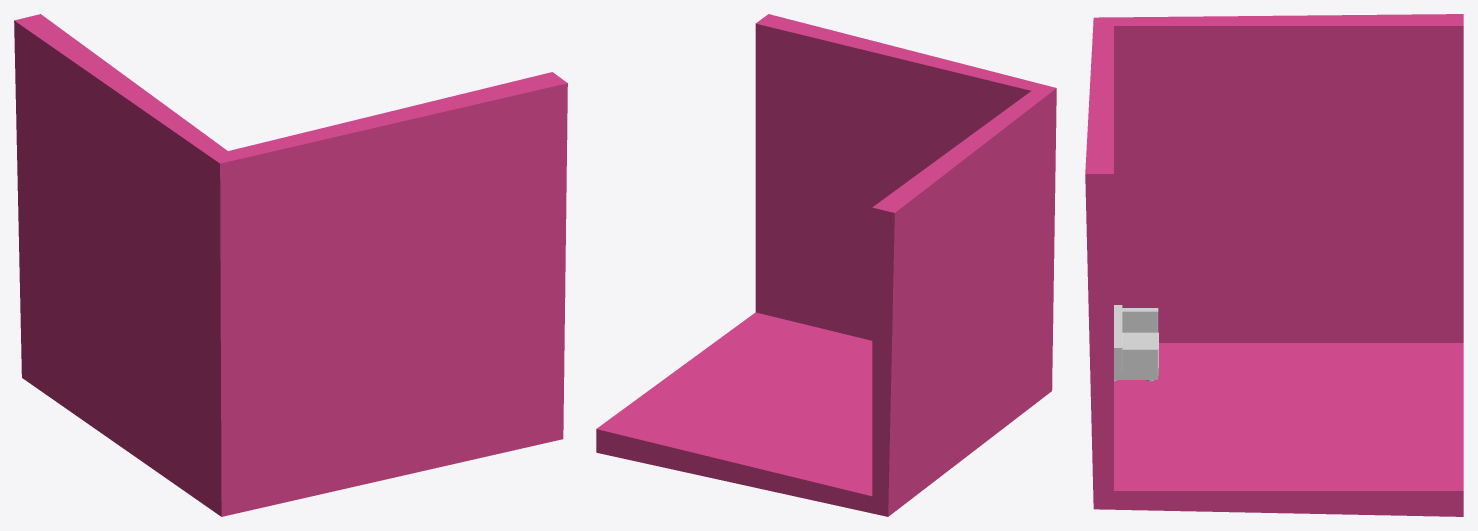
The model's file is Без имени.glb.
The picture shows the model from 3 angles, left to right: view 1: azimuth 30°, elevation 25°; view 2: azimuth 150°, elevation 25°; view 3: azimuth 270°, elevation 25°; orthographic projection. The views are drawn at different scales.
Parts seen in each view (by area): view 1: Cube; view 2: Cube; view 3: Cube, Куб.001.
Boxes of the visible parts, box(x1,y1,x2,y2) form: Cube: box(14, 14, 567, 516); Cube: box(596, 14, 1056, 516); Cube: box(1085, 14, 1463, 516); Куб.001: box(1114, 305, 1158, 381).
Size of the model in its own units: 2.16 by 2.16 by 2.16.
